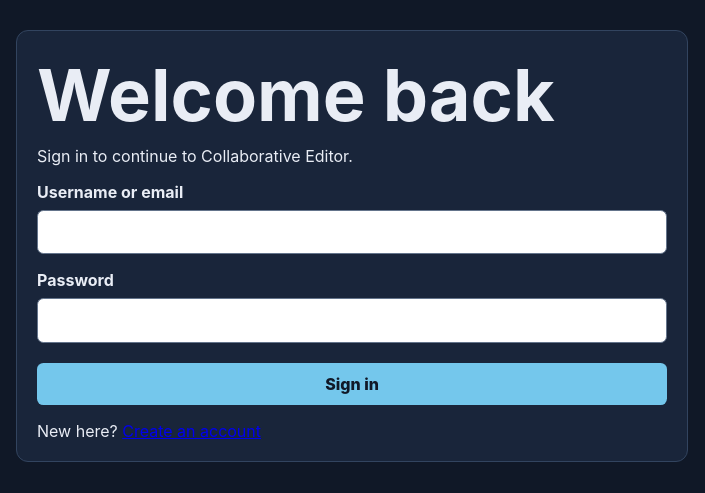
Test: authentication flows › shows the API error code's safe message after an invalid login
Expected: the heading "Welcome back" is shown, [37,51,555,138]
Type "nathan" into the field labelled "Username or email". click: (352, 232)
box: [37,210,667,254]
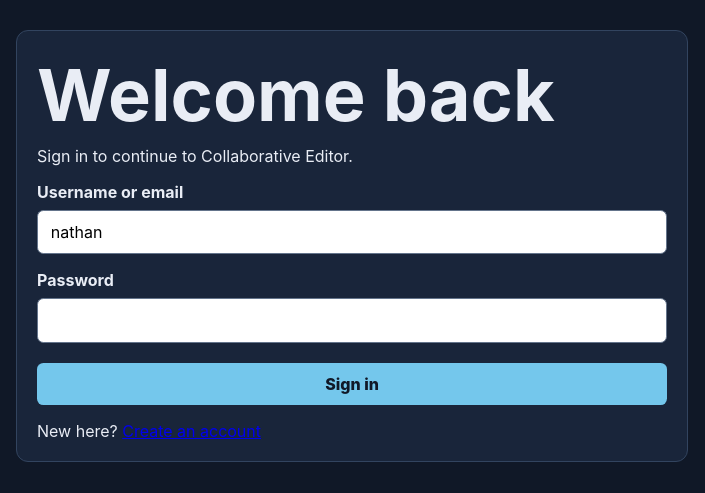
Type "wrong-password" into the password field labelled "Password". click: (352, 320)
box: [37,298,667,343]
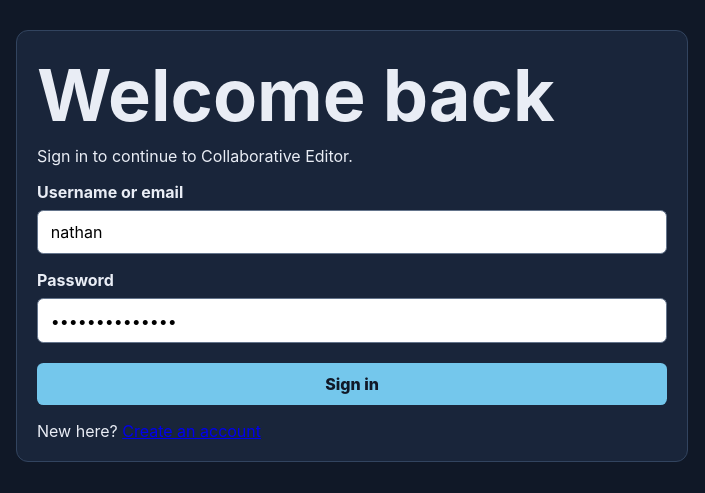
Click the button "Sign in". click: (352, 384)
box: [37,363,667,405]
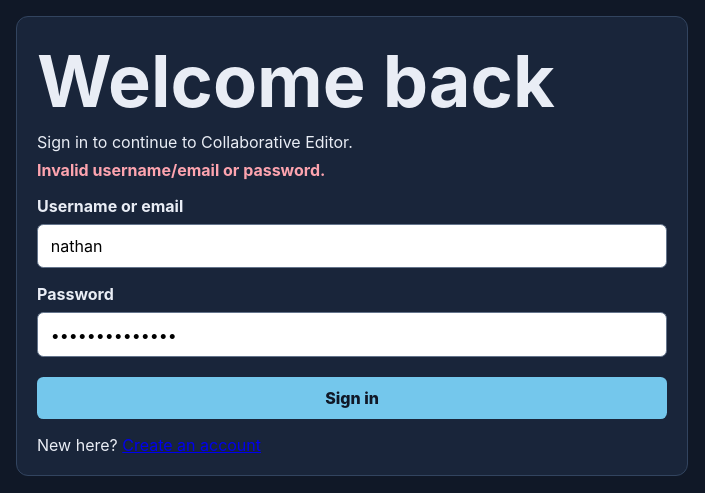
Expected: the message reads "Invalid username/email or password.", [37,160,325,180]
